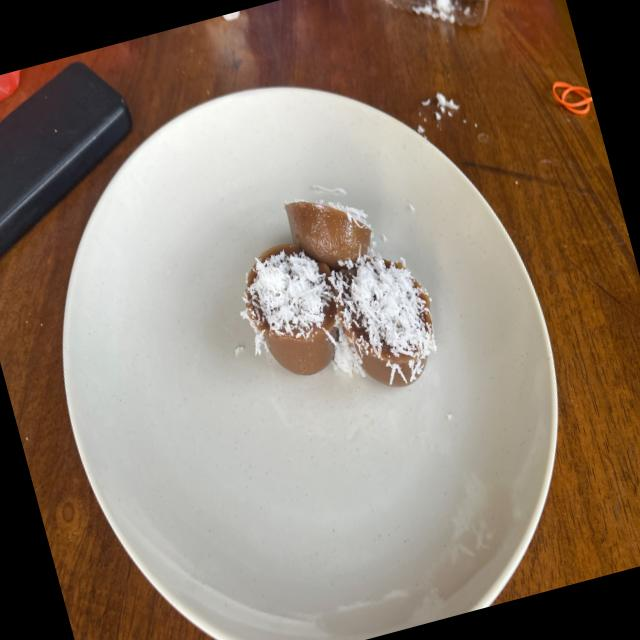Kuih lompang: (330, 254, 436, 386), (242, 243, 338, 375), (284, 200, 371, 268)
